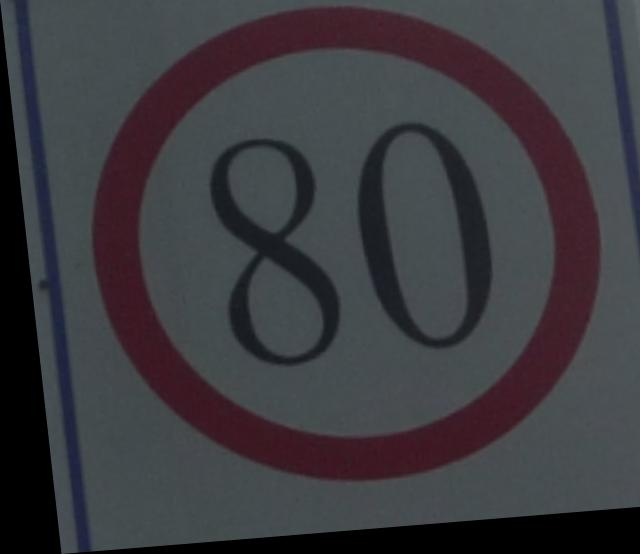limit80: (56, 0, 625, 510)
